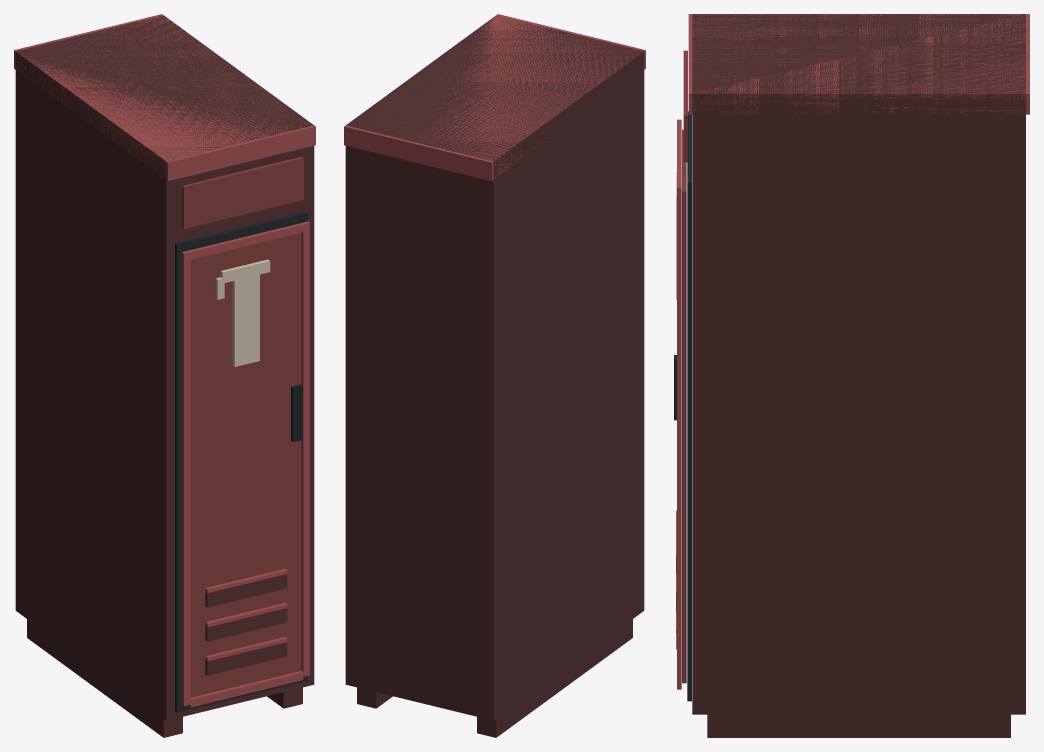
The model's file is CMU3DFireCloset.glb.
The picture shows the model from 3 angles, left to right: view 1: azimuth 30°, elevation 25°; view 2: azimuth 150°, elevation 25°; view 3: azimuth 270°, elevation 25°; orthographic projection. The views are drawn at different scales.
Parts seen in each view (by area): view 1: closet shell, door face, top cap, door edge molding (×4), header inset, door recess, lower ventilation recess (×3), closet foot, extinguisher symbol bottle, vent lip (×3), vertical door latch, extinguisher symbol handle; view 2: closet shell, top cap, closet foot; view 3: closet shell, top cap, closet foot, door recess, door face, door edge molding.
Part boxes in pixels (left/top/right/bottom): closet shell: left=15, top=15, right=314, bottom=720; door face: left=190, top=233, right=301, bottom=697; top cap: left=14, top=14, right=315, bottom=181; door edge molding (×4): left=182, top=221, right=309, bottom=707; header inset: left=182, top=156, right=304, bottom=228; door recess: left=175, top=211, right=307, bottom=712; lower ventilation recess (×3): left=205, top=574, right=287, bottom=675; closet foot: left=27, top=619, right=182, bottom=737; extinguisher symbol bottle: left=232, top=268, right=259, bottom=366; vent lip (×3): left=205, top=568, right=287, bottom=661; vertical door latch: left=291, top=384, right=302, bottom=441; extinguisher symbol handle: left=220, top=259, right=270, bottom=282; closet shell: left=345, top=16, right=644, bottom=720; top cap: left=344, top=14, right=645, bottom=181; closet foot: left=477, top=619, right=632, bottom=737; closet shell: left=692, top=14, right=1025, bottom=714; top cap: left=688, top=14, right=1029, bottom=114; closet foot: left=707, top=714, right=1010, bottom=737; door recess: left=687, top=111, right=691, bottom=701; door face: left=682, top=129, right=686, bottom=683; door edge molding: left=677, top=184, right=681, bottom=689.
Bounding box in the file's own units: 0.5 × 1.88 × 0.938.
